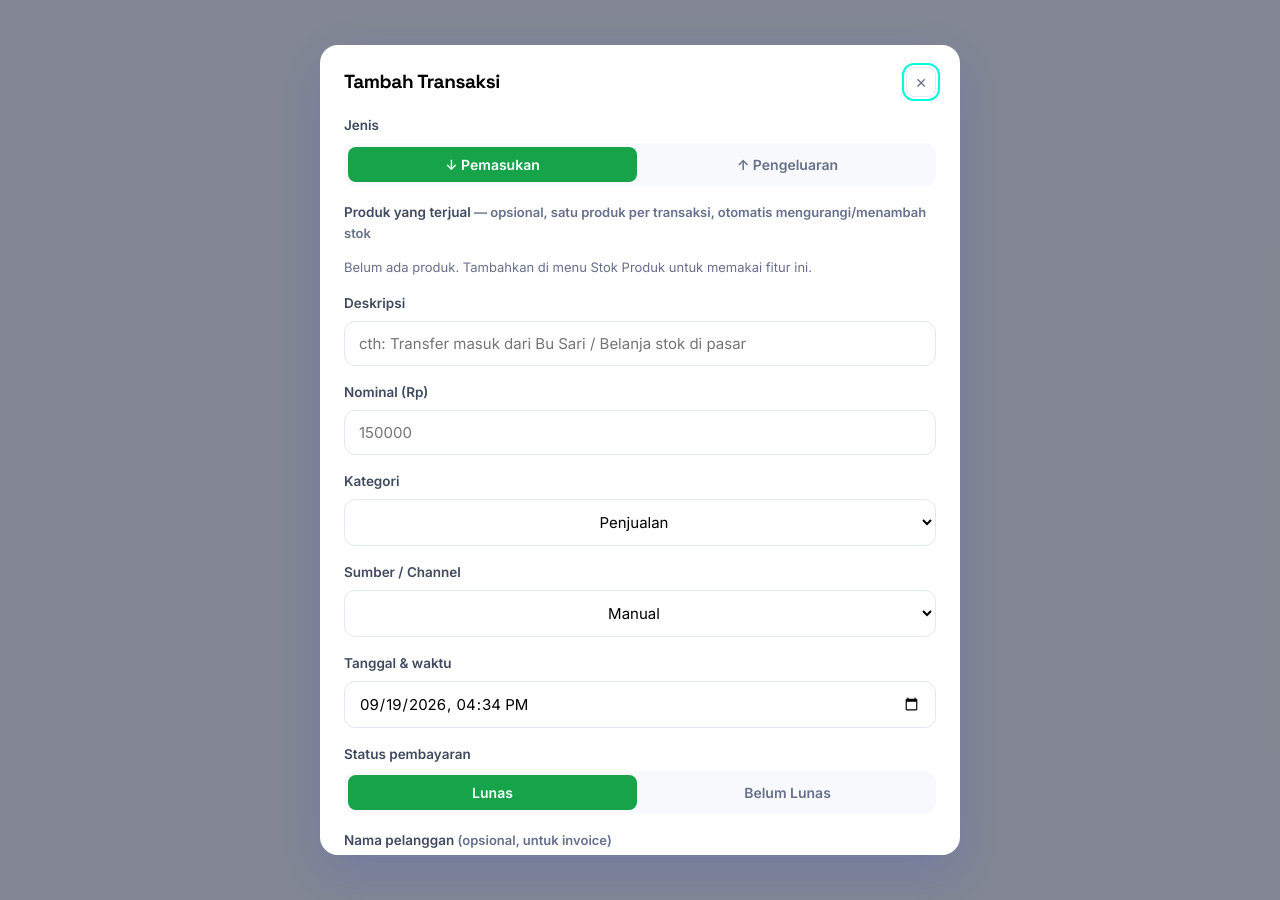
Test: <TransactionModal> validasi › menolak nominal 0 — transaksi Rp 0 tidak boleh tersimpan
Step 1. Type "Penjualan kue" into the field labelled "Deskripsi" → [640, 343], box [344, 321, 936, 366]
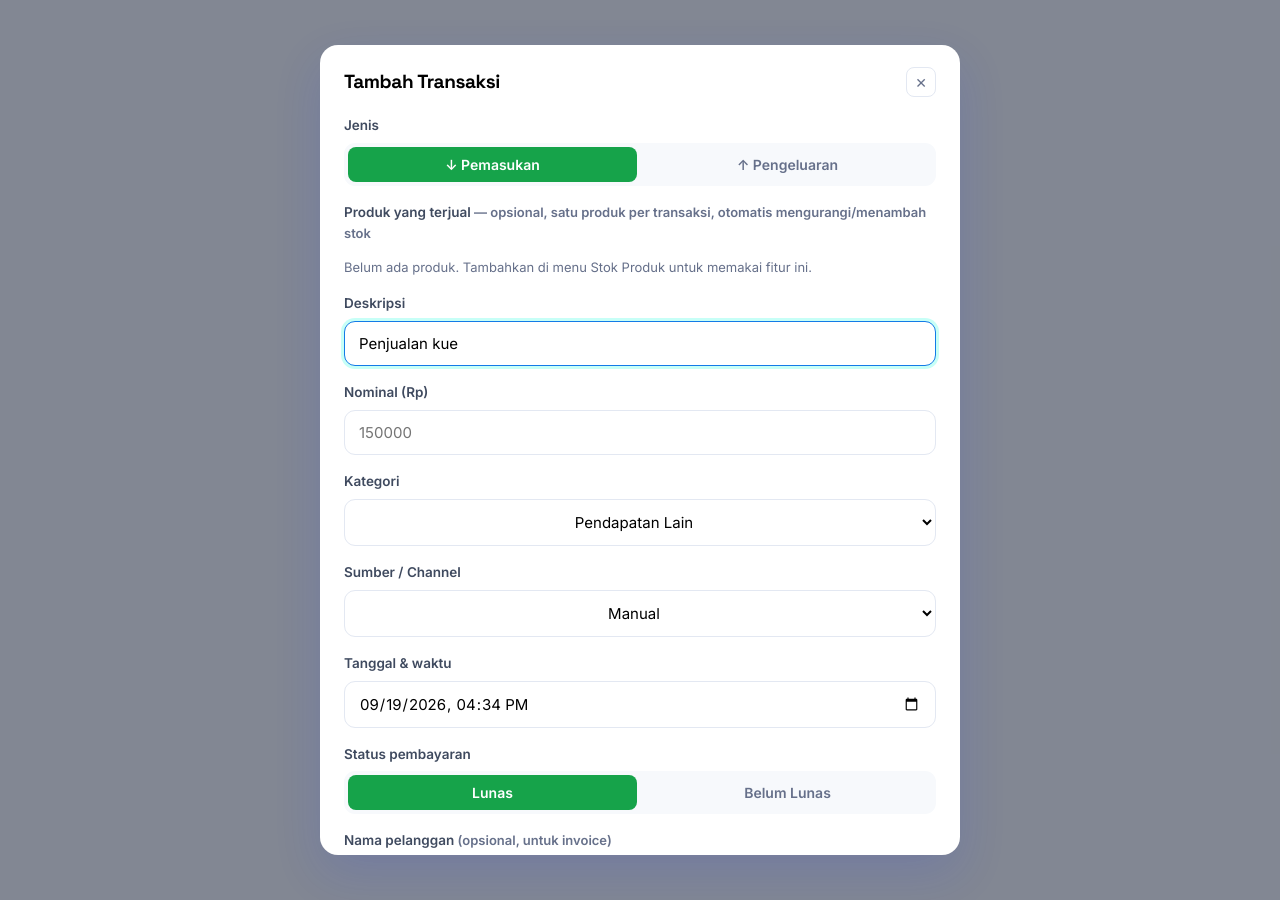
Step 2. Type "0" into the number field labelled "Nominal (Rp)" → [640, 432], box [344, 410, 936, 455]
(page scrolled)
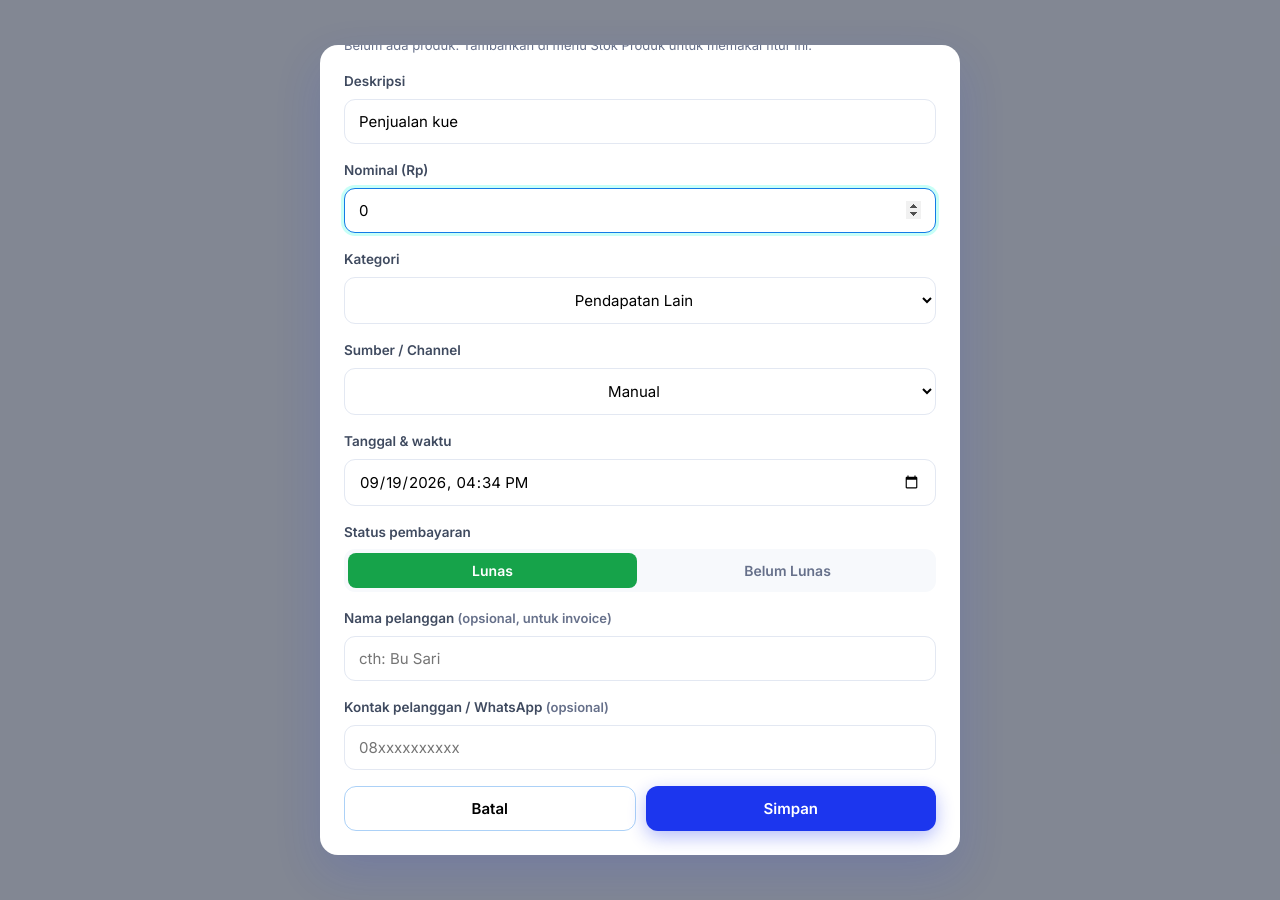
Step 3. Click the button "Simpan" → [791, 809], box [646, 786, 936, 831]
(page scrolled)
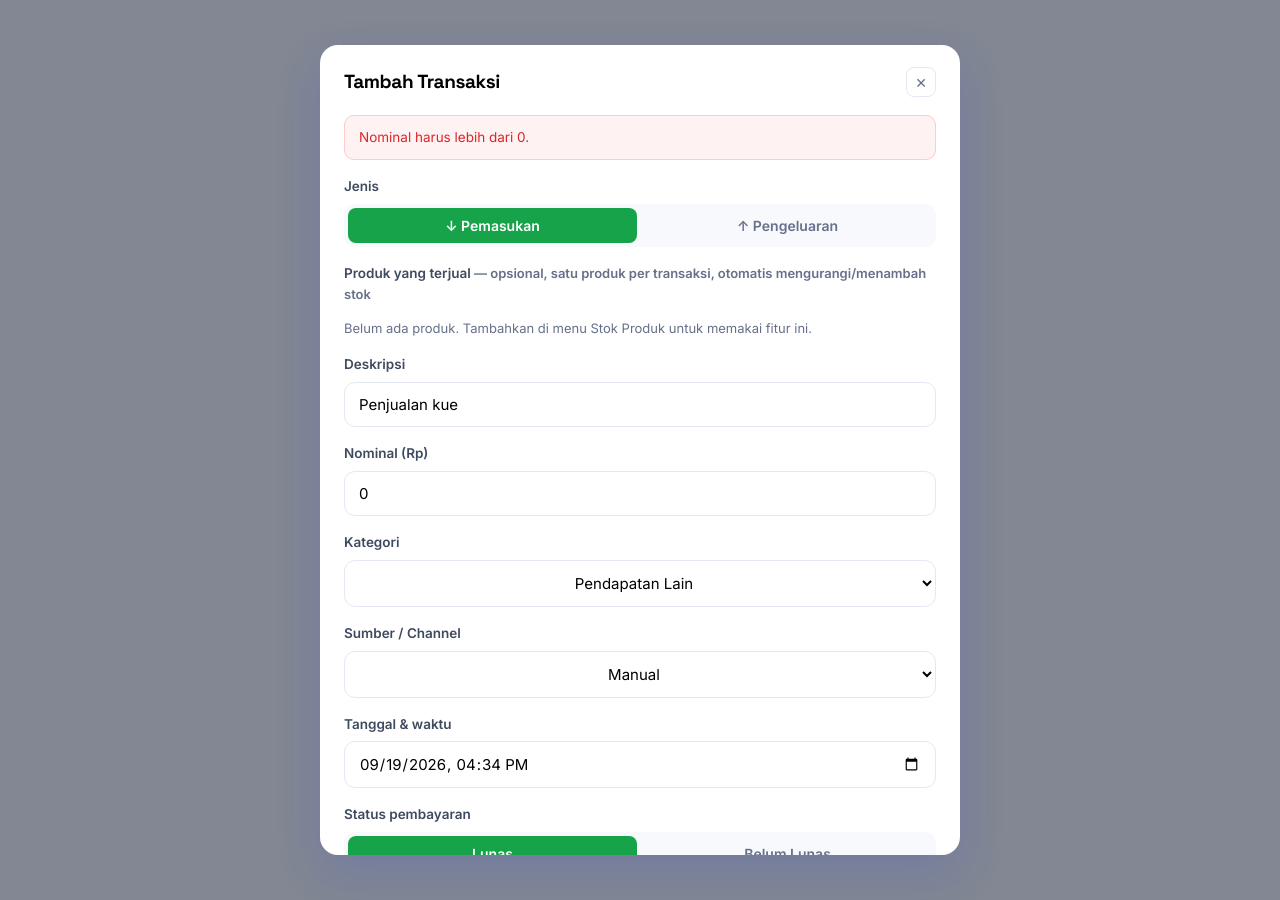
Expected: the text "Nominal harus lebih dari 0." is shown, [344, 115, 936, 160]
